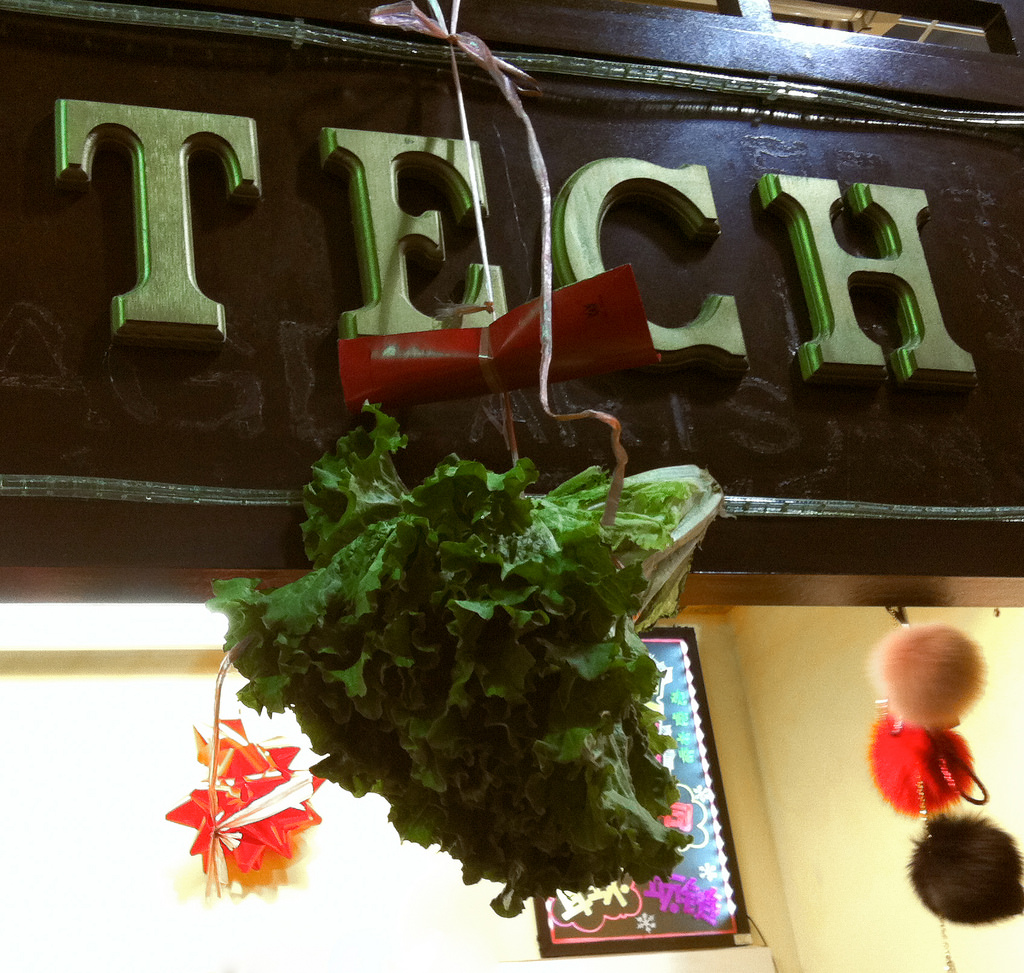chopped lettuce: (211, 432, 749, 913)
